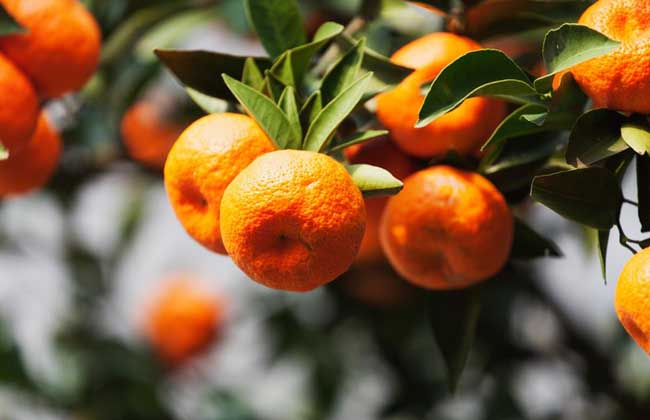orange: (220, 149, 364, 290), (164, 111, 287, 257), (381, 164, 511, 287), (375, 32, 500, 151), (553, 1, 650, 119), (1, 1, 98, 99), (1, 99, 58, 194), (614, 237, 650, 357), (1, 49, 39, 159)
